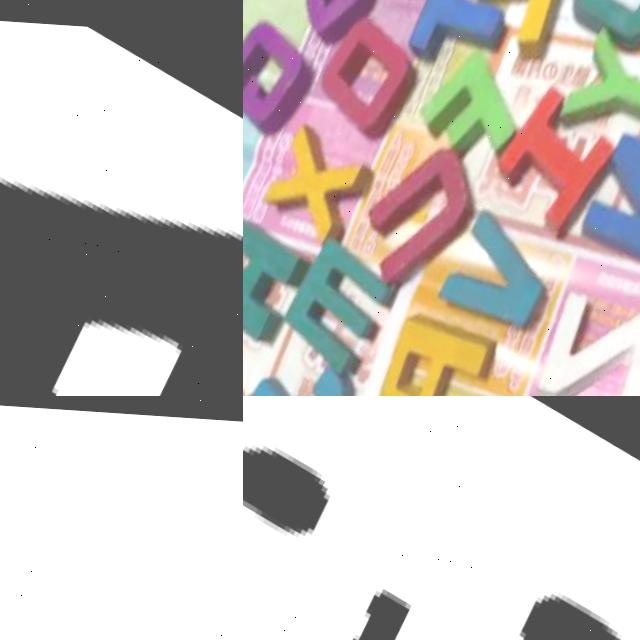3: (243, 396, 640, 640)
B: (0, 175, 243, 396)
F: (403, 39, 535, 171)
G: (243, 0, 327, 147)
I: (475, 70, 626, 233)
J: (243, 334, 354, 396)
K: (243, 204, 307, 340)
L: (444, 0, 585, 62)
M: (265, 227, 404, 377)
N: (560, 109, 640, 279)
O: (294, 6, 430, 151)
R: (340, 286, 504, 396)
S: (259, 0, 403, 59)
T: (386, 0, 521, 83)
U: (327, 101, 499, 306)
V: (419, 195, 567, 344)
X: (243, 121, 367, 255)
Y: (543, 19, 640, 166)
Z: (497, 254, 640, 396)
